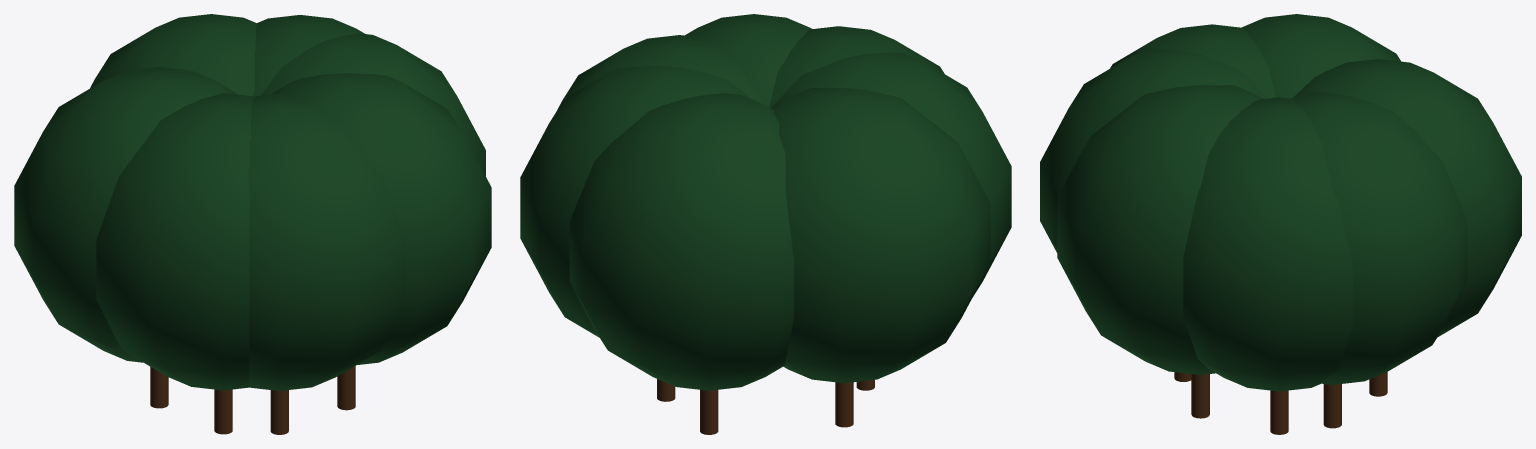
File: Tuja_gomb.obj
3 renders of one model, left to right at view 1: azimuth 30°, elevation 25°; view 2: azimuth 150°, elevation 25°; view 3: azimuth 270°, elevation 25°, orthographic.
Bounding box in the file's own units: 1.32 × 0.96 × 1.31.
